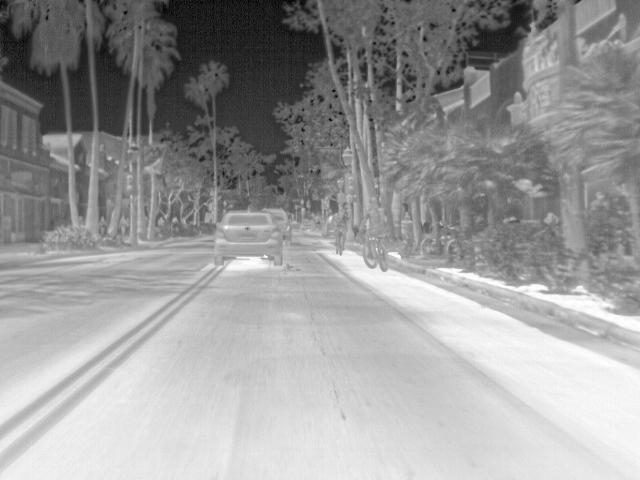car: (211, 210, 285, 264), (261, 208, 294, 242), (299, 220, 315, 232)
person: (362, 197, 390, 258), (332, 206, 348, 240), (115, 214, 129, 235), (96, 214, 109, 234), (155, 214, 167, 227)
